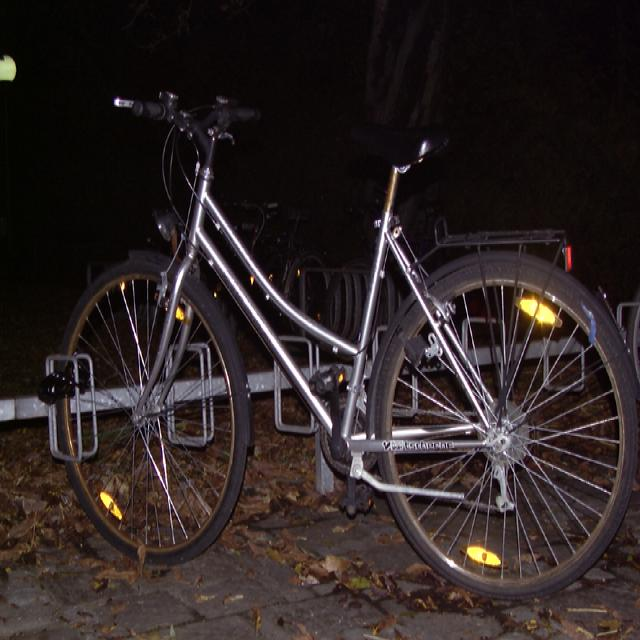bicycle: (41, 88, 639, 600)
